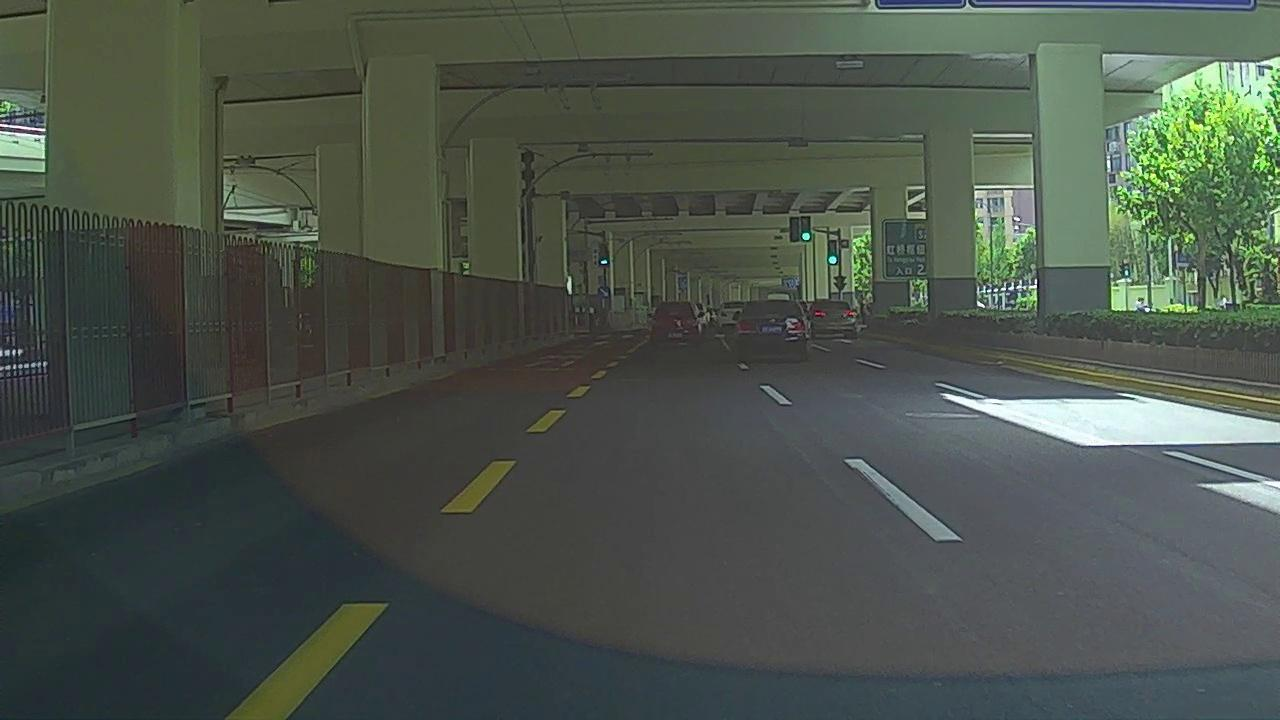traffic_light: (828, 241, 838, 266), (801, 217, 811, 241), (790, 218, 799, 241)
